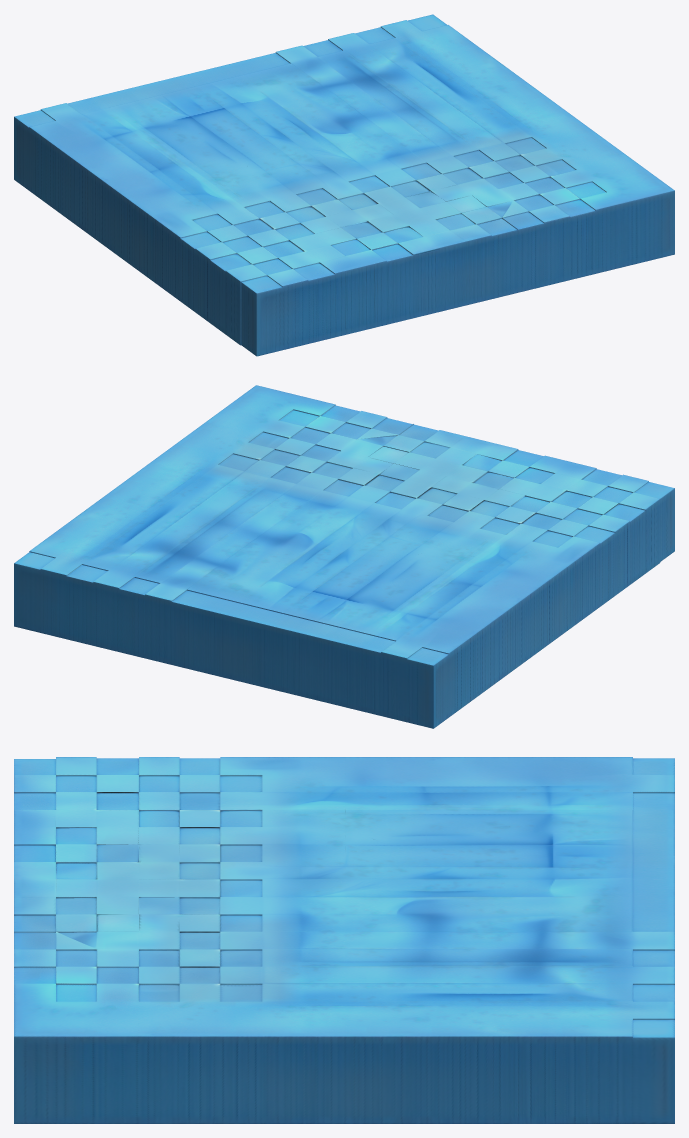
Rendered from agua.obj.
3 renders of one model, top to bottom at view 1: azimuth 30°, elevation 25°; view 2: azimuth 150°, elevation 25°; view 3: azimuth 270°, elevation 25°, orthographic. The views are drawn at different scales.
Visible parts, largest first — view 1: model; view 2: model; view 3: model.
Part boxes in pixels (<box>): model: <box>14,14,674,356</box>; model: <box>14,385,674,728</box>; model: <box>14,757,674,1123</box>.
Bounding box in the file's own units: 1.9 × 0.2772 × 1.9.
Materials: 1 (1 with a texture image).
